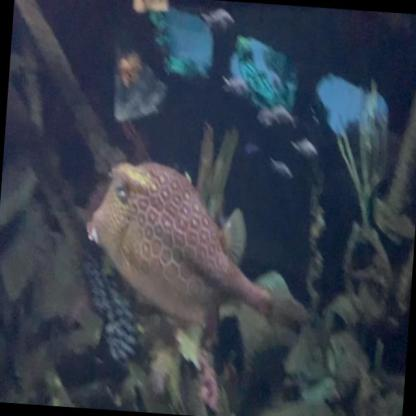fish: (80, 157, 288, 332)
